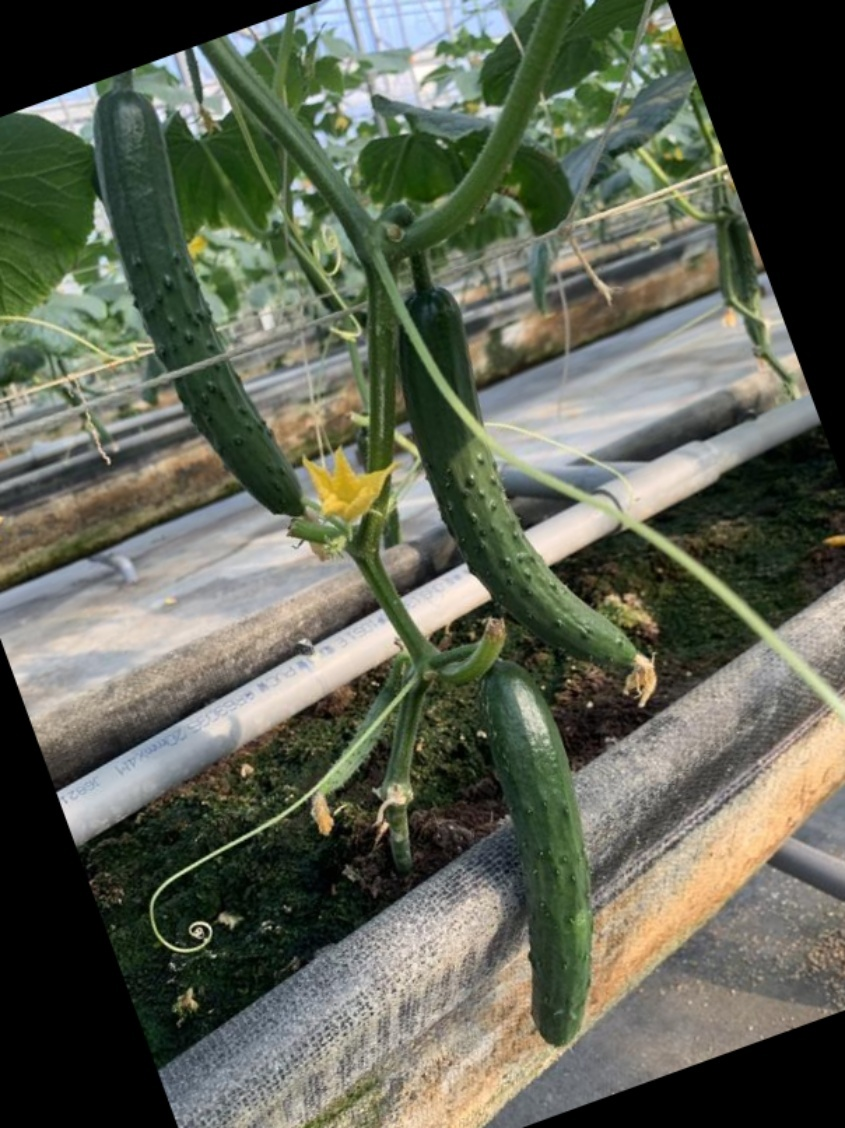mature: (483, 661, 598, 1051)
